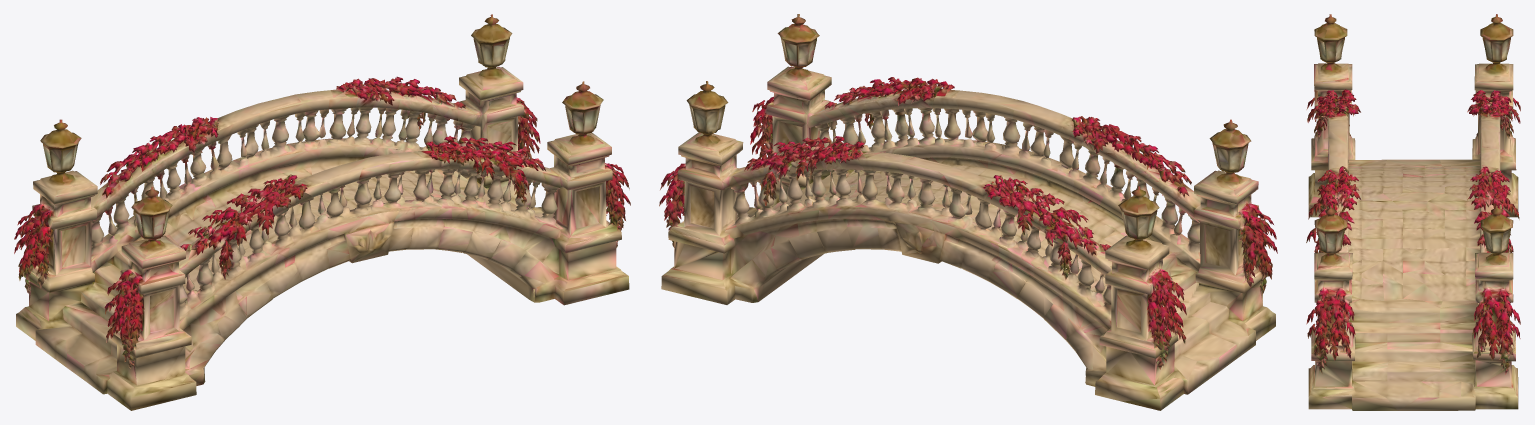
File: puente.glb
3 views of the same model, side by side, from view 1: azimuth 30°, elevation 25°; view 2: azimuth 150°, elevation 25°; view 3: azimuth 270°, elevation 25° (orthographic). The views are drawn at different scales.
Parts seen in each view (by area): view 1: Mesh_0; view 2: Mesh_0; view 3: Mesh_0.
Part boxes in pixels (x1,y1,x2,y2): Mesh_0: (14, 14, 630, 410); Mesh_0: (659, 14, 1277, 410); Mesh_0: (1306, 14, 1520, 410).
Bounding box in the file's own units: 1.91 × 0.7272 × 0.7484.
1 material, 1 textured.
